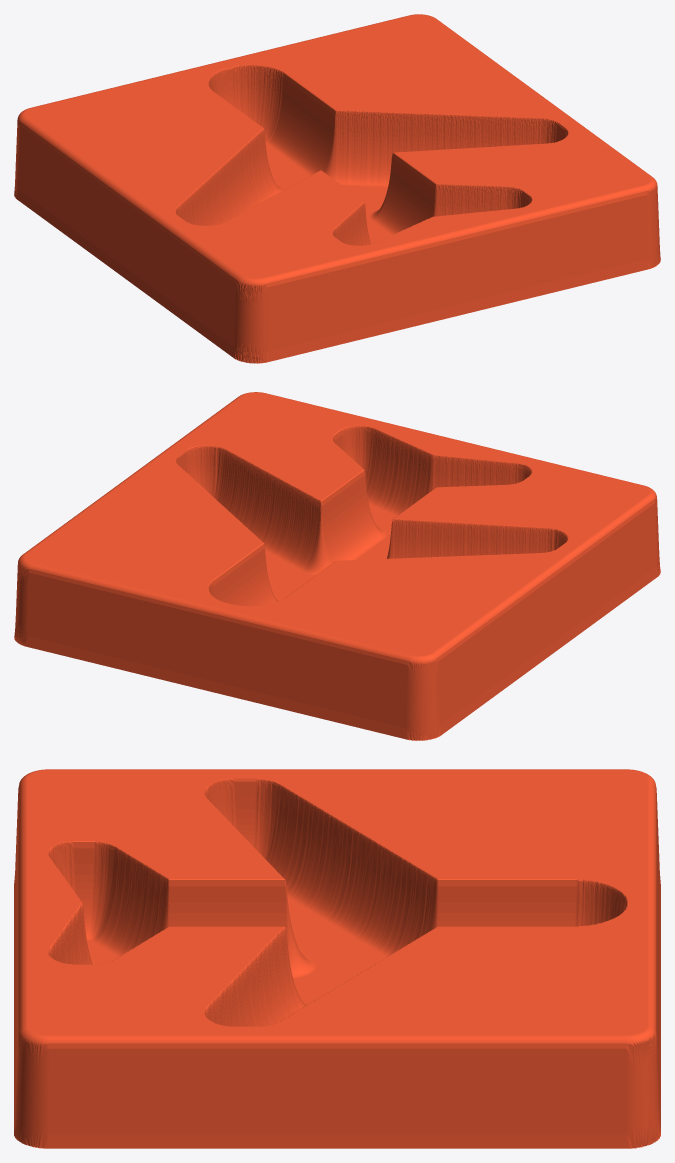
File: mold.glb
The picture shows the model from 3 angles, top to bottom: view 1: azimuth 30°, elevation 25°; view 2: azimuth 150°, elevation 25°; view 3: azimuth 270°, elevation 25°; orthographic projection. The views are drawn at different scales.
Visible parts, largest first — view 1: geometry_0; view 2: geometry_0; view 3: geometry_0.
Boxes of the visible parts, x1,y1,x2,y2 form: geometry_0: (14, 14, 660, 363); geometry_0: (14, 392, 660, 740); geometry_0: (14, 769, 660, 1148).
Bounding box in the file's own units: 0.1709 × 0.031 × 0.1689.
